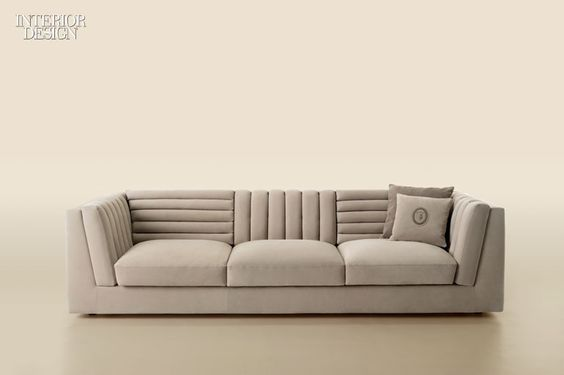3seatersofa: (67, 184, 504, 313)
backrest: (120, 190, 387, 244), (234, 239, 457, 284), (116, 240, 230, 285)
base: (96, 286, 477, 313)
leftarmrest: (448, 192, 503, 310), (340, 246, 455, 284)
pillow: (383, 185, 453, 246)
rightarmrest: (67, 195, 133, 313)
seat: (112, 239, 341, 284), (339, 239, 457, 284)
